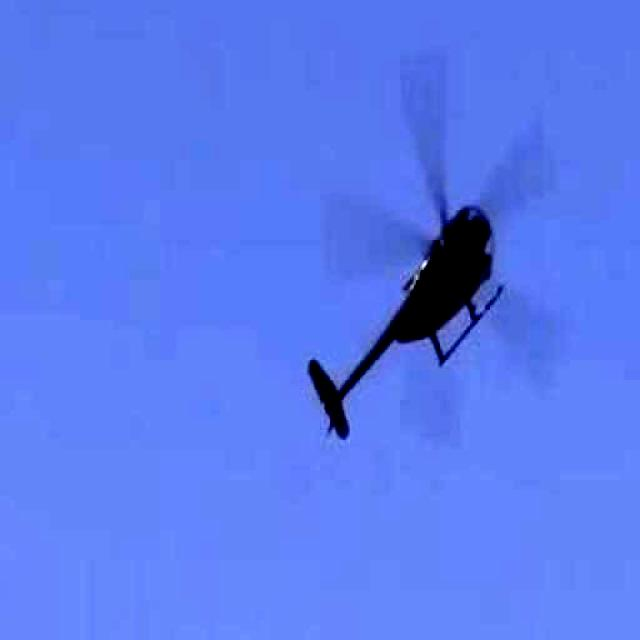drone: (271, 46, 601, 458)
